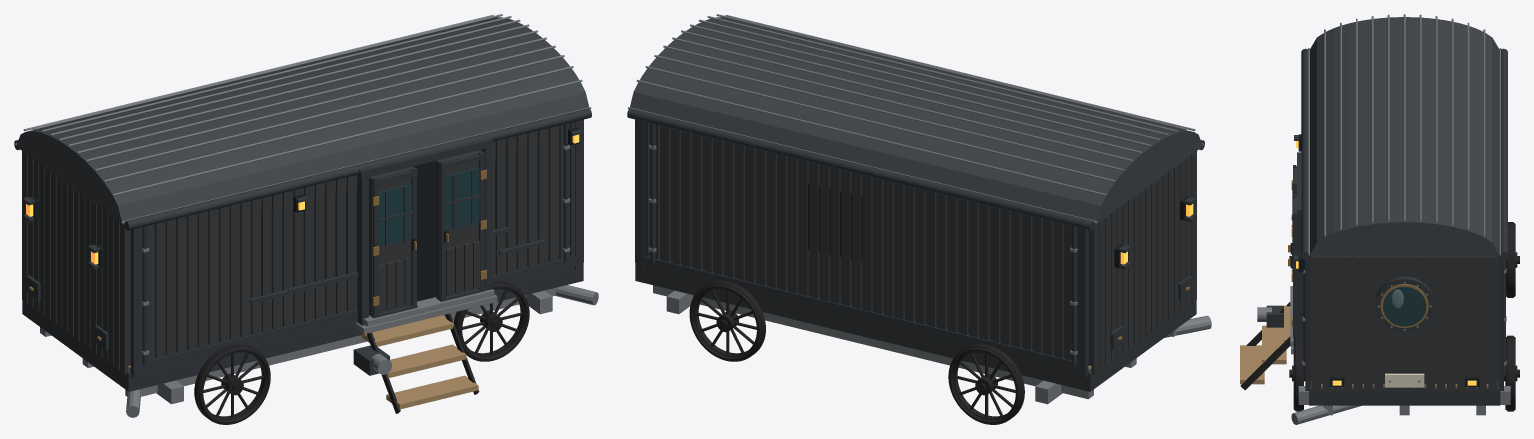
File: antracit.glb
The picture shows the model from 3 angles, left to right: view 1: azimuth 30°, elevation 25°; view 2: azimuth 150°, elevation 25°; view 3: azimuth 270°, elevation 25°; orthographic projection. The views are drawn at different scales.
Visible parts, largest first — view 1: One-piece curved standing-seam roof, Insulated floor cassette, Rain gutter, Cast iron spoked wheel, Lower perimeter trim, Wide double-door opening, Cast iron spoked wheel.002, Long side wall near, Door leaf timber panel, Door leaf timber panel.001, Chassis crossmember, Door frame upright (+80 smaller); view 2: One-piece curved standing-seam roof, Insulated floor cassette, Long side wall far, Rain gutter.001, Lower perimeter trim.001, Cast iron spoked wheel.001, Cast iron spoked wheel.003, Chassis crossmember.002, Vertical corner trim.002, Individual vertical timber board.048, Individual vertical timber board.060, Individual vertical timber board.056 (+73 smaller); view 3: One-piece curved standing-seam roof, Rear end wall, Insulated floor cassette, Rain gutter, Rain gutter.001, End vertical cladding board.022, End vertical cladding board.030, End vertical cladding board.019, End vertical cladding board.033, Round porthole glass, End vertical cladding board.018, End vertical cladding board.023 (+44 smaller).
Part boxes in pixels (x1,y1,x2,y2): One-piece curved standing-seam roof: (16, 17, 589, 224); Insulated floor cassette: (22, 262, 583, 391); Rain gutter: (124, 108, 591, 230); Cast iron spoked wheel: (194, 344, 270, 424); Lower perimeter trim: (140, 256, 575, 372); Wide double-door opening: (413, 150, 481, 301); Cast iron spoked wheel.002: (454, 281, 529, 361); Long side wall near: (154, 123, 569, 357); Door leaf timber panel: (369, 166, 414, 316); Door leaf timber panel.001: (436, 150, 481, 300); Chassis crossmember: (125, 287, 557, 396); Door frame upright: (357, 168, 368, 325); One-piece curved standing-seam roof: (630, 17, 1202, 224); Insulated floor cassette: (635, 262, 1196, 391); Long side wall far: (649, 123, 1064, 357); Rain gutter.001: (627, 108, 1094, 230); Lower perimeter trim.001: (643, 256, 1078, 372); Cast iron spoked wheel.001: (948, 344, 1024, 424); Cast iron spoked wheel.003: (689, 281, 765, 361); Chassis crossmember.002: (653, 285, 1093, 399); Vertical corner trim.002: (1078, 228, 1088, 377); Individual vertical timber board.048: (1011, 211, 1021, 359); Individual vertical timber board.060: (883, 180, 893, 328); Individual vertical timber board.056: (926, 190, 936, 338); One-piece curved standing-seam roof: (1309, 17, 1499, 256); Rear end wall: (1321, 256, 1488, 384); Insulated floor cassette: (1309, 380, 1500, 405); Rain gutter: (1301, 48, 1309, 259); Rain gutter.001: (1499, 48, 1507, 259); End vertical cladding board.022: (1353, 256, 1362, 391); End vertical cladding board.030: (1436, 256, 1445, 391); End vertical cladding board.019: (1322, 256, 1331, 391); End vertical cladding board.033: (1467, 256, 1476, 391); Round porthole glass: (1383, 286, 1426, 326); End vertical cladding board.018: (1312, 256, 1320, 391); End vertical cladding board.023: (1364, 256, 1372, 391).
Size of the model in its own units: 6.18 by 3.2 by 3.43.
